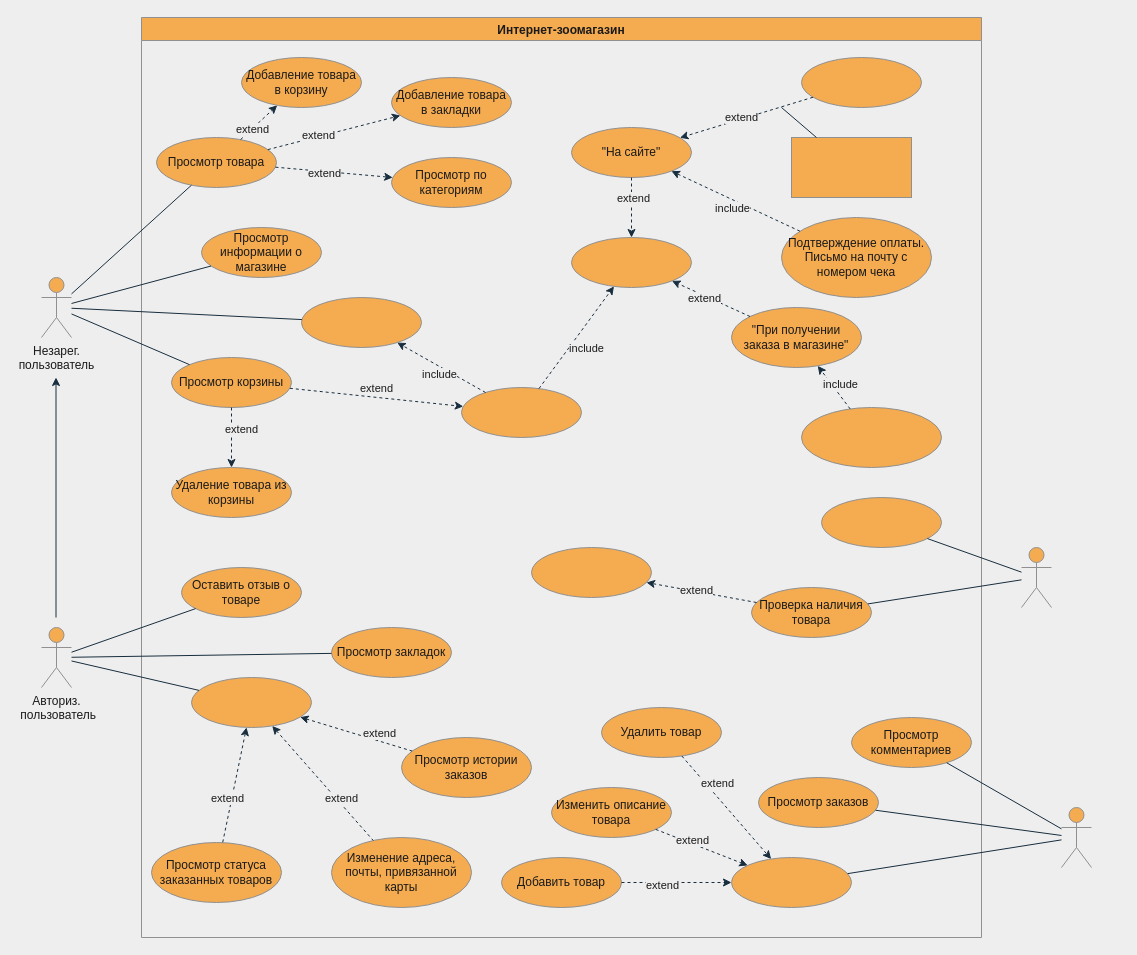
Image size: 1137x955. Some labels were removed from this diagram. The centre of each missing label's shape, as x and y in pixels:
"Администратор сайта" goes at [1076,837].
"Ввод данных карты" goes at [861,82].
"Ведение финансовой отчётности" goes at [881,522].
"Выбор способа оплаты" goes at [631,262].
"Закупка товара" goes at [591,572].
"Личный кабинет" goes at [251,702].
"Оформление заказа" goes at [521,412].
"Регистрация или авторизация" goes at [361,322].
"Редактирование сайта" goes at [791,882].
"Указать адрес ближайшего магазина" goes at [871,437].
"Управляющий магазина" goes at [1036,577].
"Усл: не привязана карта" goes at [851,167].
